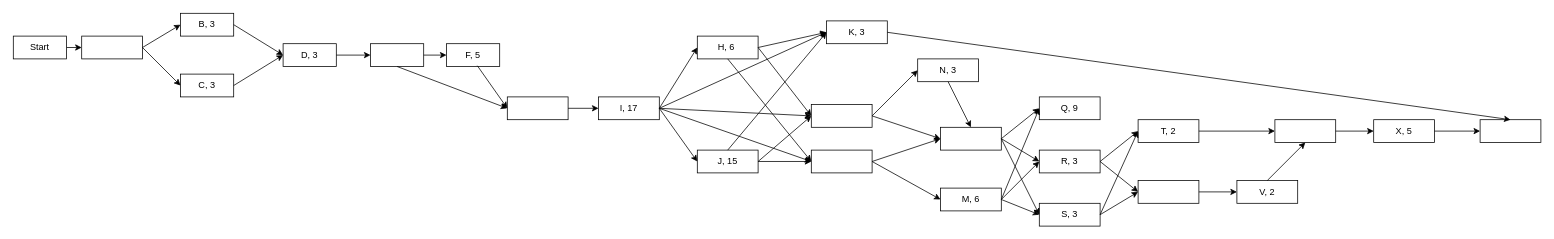
Some shapes in this 1554 by 239 pixel diagram are drawn without their labels. Each missing label, with the centre of its shape:
"A, 4" goes at (111,47).
"E, 5" goes at (397,54).
"End" goes at (1510,130).
"G, 2" goes at (537,108).
"L, 6" goes at (841,161).
"O, 3" goes at (841,115).
"P, 3" goes at (970,138).
"U,3" goes at (1168,191).
"W, 7" goes at (1305,130).
